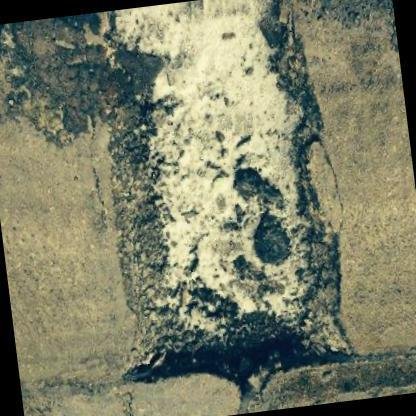pothole: (89, 0, 363, 406)
